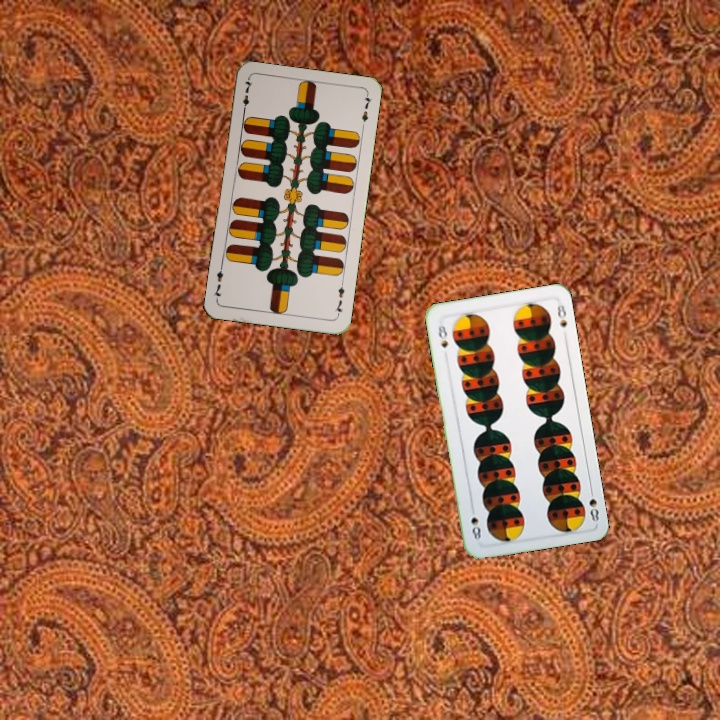E7: (238, 75, 255, 116), (331, 278, 347, 319)
S8: (585, 484, 601, 524), (434, 321, 451, 350)
